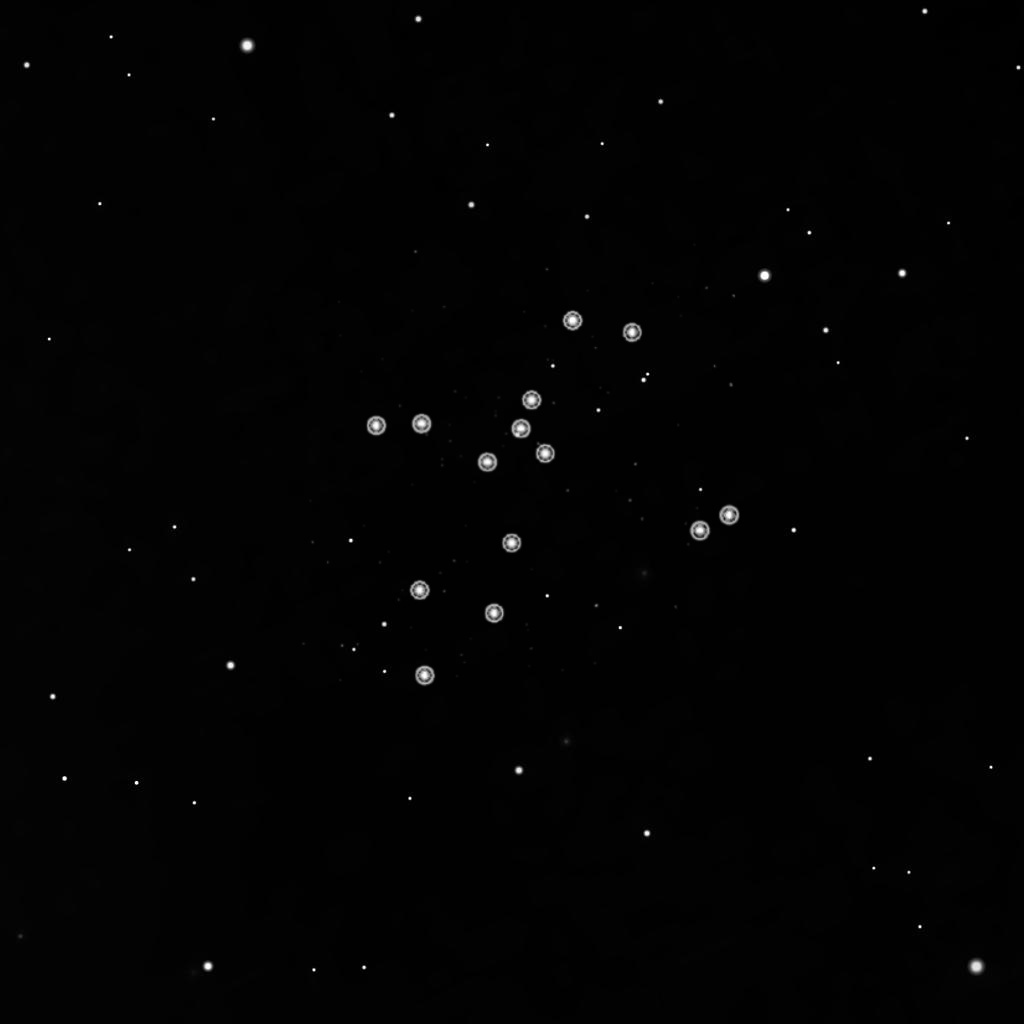canis_major: (474, 309, 650, 480)
